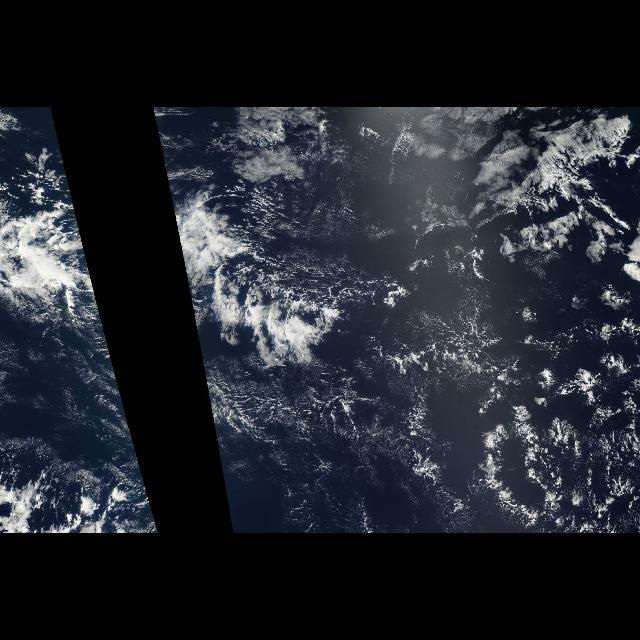Sugar: (202, 354, 414, 468), (0, 354, 142, 468)
